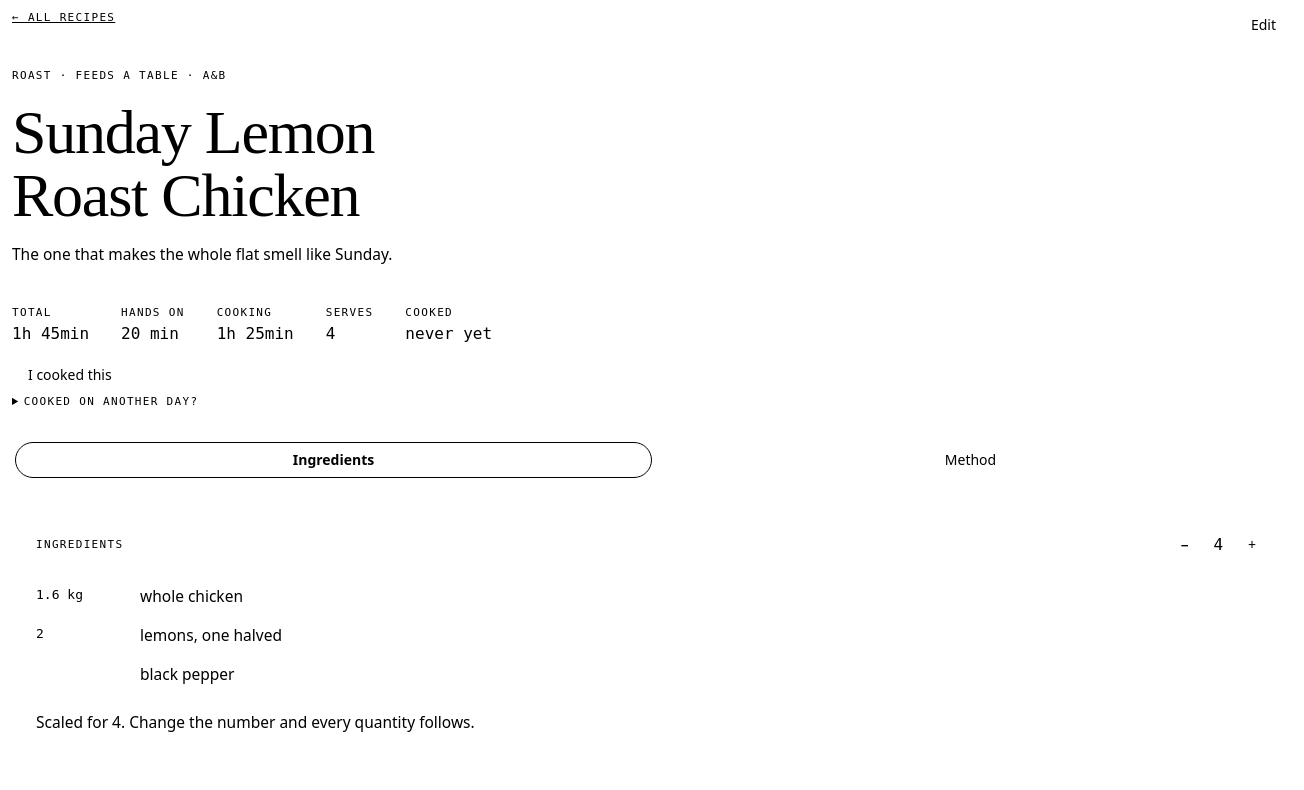
Test: RecipeDetailPage populated › uses tabs on mobile
Expected: the heading "Sunday Lemon Roast Chicken" is shown, [12, 98, 374, 229]
Click the tab "Method" at (970, 460), box [652, 442, 1289, 478]
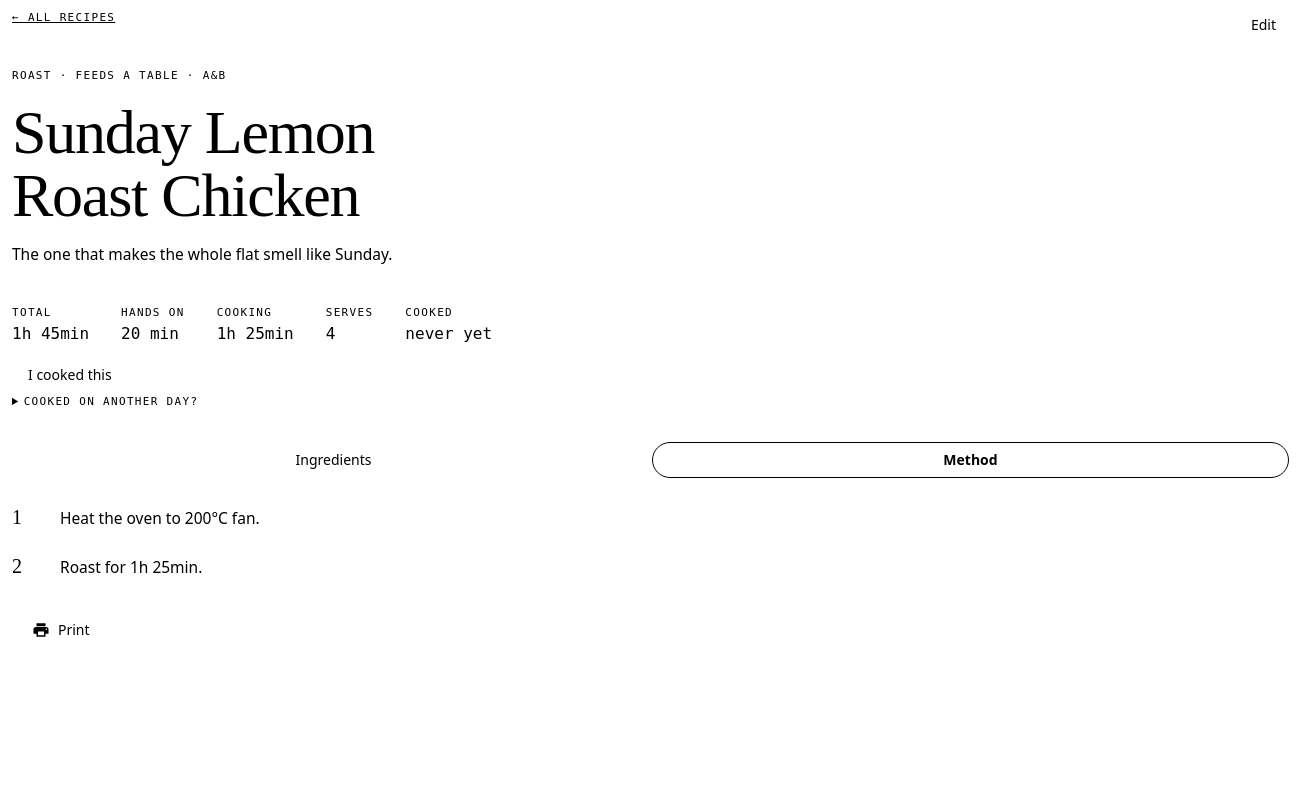
Now the panel shows "Heat the oven to 200°C fan.", box [60, 507, 260, 529]
